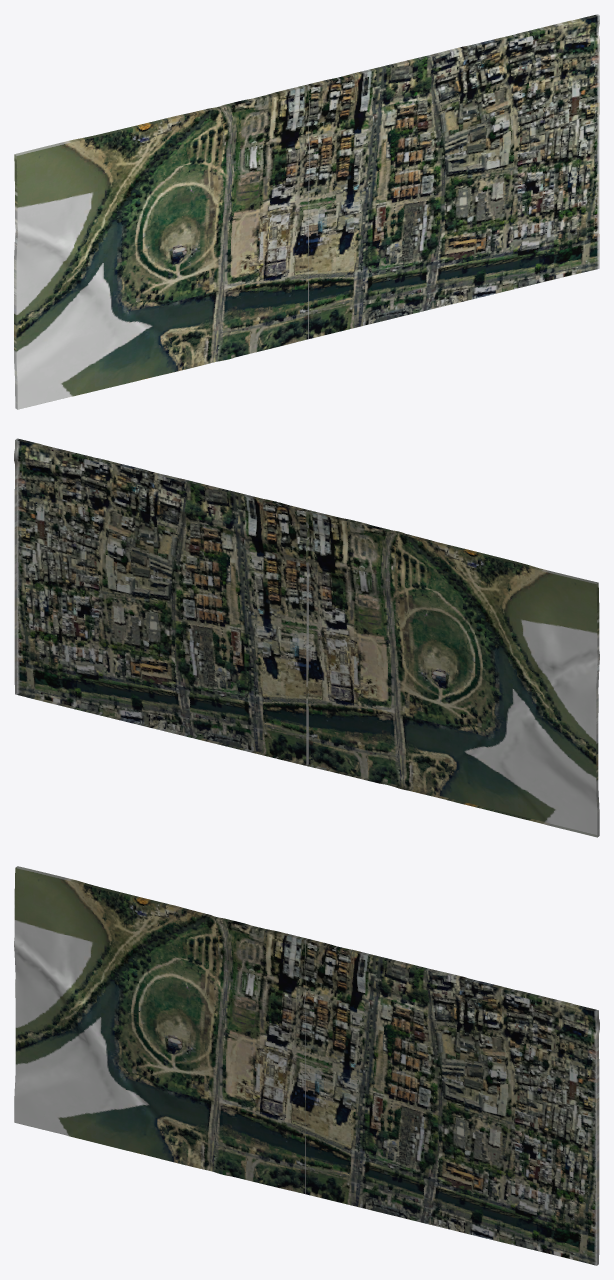
The model's file is novo8b.obj.
3 renders of one model, top to bottom at view 1: azimuth 30°, elevation 25°; view 2: azimuth 150°, elevation 25°; view 3: azimuth 330°, elevation 25°, orthographic.
Visible parts, largest first — view 1: novo8_L0_X0_Y0_subtile.ive_TerrainTile_MatrixTransform_0, novo8_L0_X0_Y0_subtile.ive_TerrainTile_MatrixTransform_1; view 2: novo8_L0_X0_Y0_subtile.ive_TerrainTile_MatrixTransform_1, novo8_L0_X0_Y0_subtile.ive_TerrainTile_MatrixTransform_0; view 3: novo8_L0_X0_Y0_subtile.ive_TerrainTile_MatrixTransform_1, novo8_L0_X0_Y0_subtile.ive_TerrainTile_MatrixTransform_0.
Boxes of the visible parts, bbox=[...] form: novo8_L0_X0_Y0_subtile.ive_TerrainTile_MatrixTransform_0: bbox=[14, 85, 309, 409]; novo8_L0_X0_Y0_subtile.ive_TerrainTile_MatrixTransform_1: bbox=[307, 14, 599, 338]; novo8_L0_X0_Y0_subtile.ive_TerrainTile_MatrixTransform_1: bbox=[14, 438, 309, 765]; novo8_L0_X0_Y0_subtile.ive_TerrainTile_MatrixTransform_0: bbox=[306, 510, 599, 837]; novo8_L0_X0_Y0_subtile.ive_TerrainTile_MatrixTransform_1: bbox=[304, 938, 599, 1265]; novo8_L0_X0_Y0_subtile.ive_TerrainTile_MatrixTransform_0: bbox=[14, 866, 306, 1194].
Size of the model in its own units: 1341 by 558 by 19.5.
2 materials, 2 textured.
